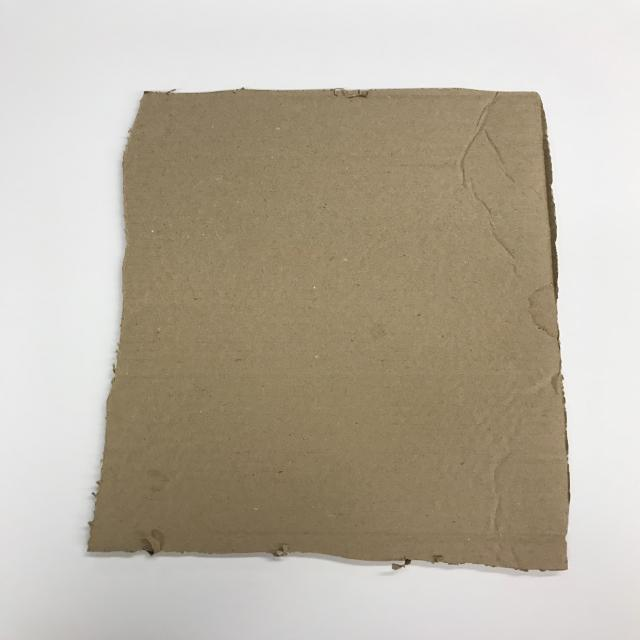cardboard: (86, 87, 571, 571)
